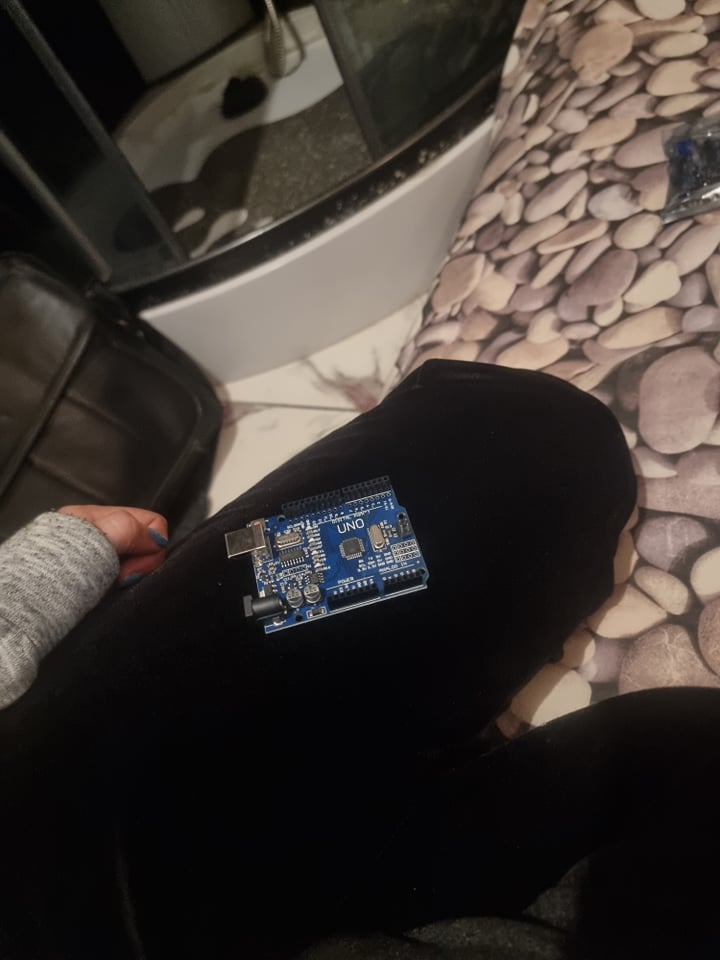UNO R3: (224, 474, 439, 638)
